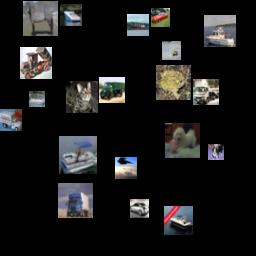airplane: (115, 157, 137, 179)
automobile: (151, 8, 170, 27), (130, 199, 149, 218)
cat: (66, 81, 98, 113)
deer: (162, 41, 181, 60)
dog: (165, 123, 200, 158), (208, 144, 224, 160)
frog: (156, 65, 191, 100)
ship: (59, 136, 97, 174), (204, 15, 236, 47), (164, 206, 193, 235), (127, 14, 149, 36), (60, 4, 82, 26), (29, 91, 45, 107)
truck: (58, 183, 93, 218), (20, 47, 52, 79), (193, 79, 219, 105), (99, 77, 125, 103), (0, 109, 22, 131)
